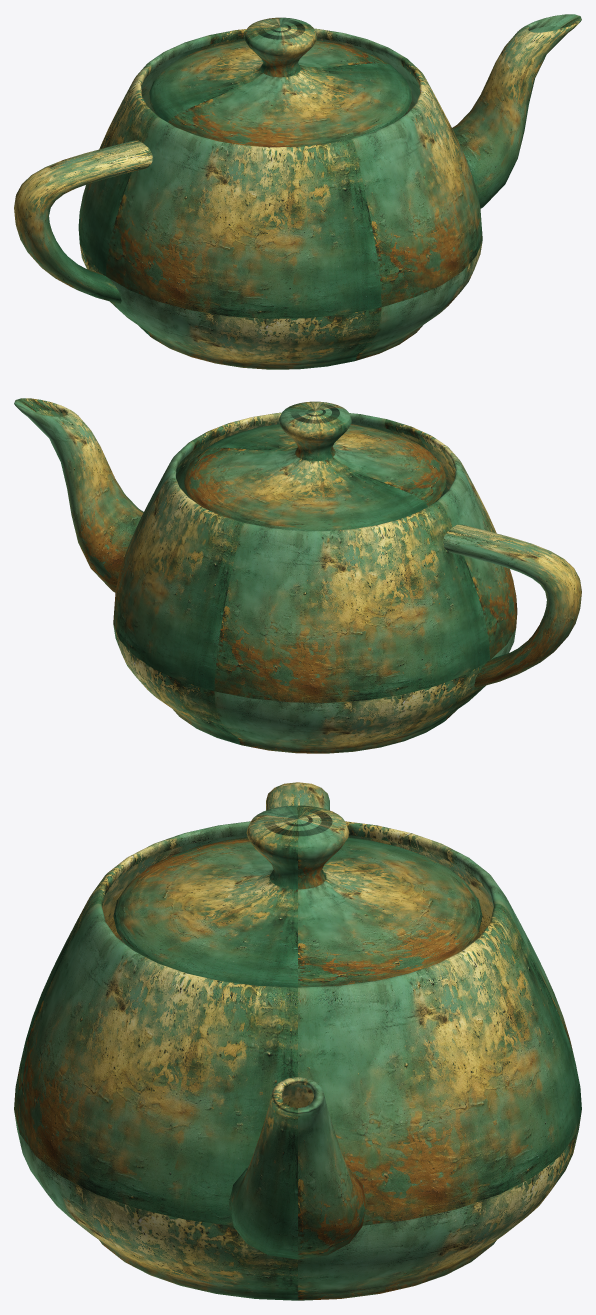
Rendered from teapot_hole.obj.
The picture shows the model from 3 angles, top to bottom: view 1: azimuth 30°, elevation 25°; view 2: azimuth 150°, elevation 25°; view 3: azimuth 270°, elevation 25°; orthographic projection. The views are drawn at different scales.
Parts seen in each view (by area): view 1: Teapot001; view 2: Teapot001; view 3: Teapot001.
Part boxes in pixels (left/top/right/bottom): Teapot001: left=14, top=14, right=581, bottom=369; Teapot001: left=14, top=398, right=581, bottom=753; Teapot001: left=14, top=782, right=581, bottom=1300.
Bounding box in the file's own units: 185 × 90.84 × 115.
